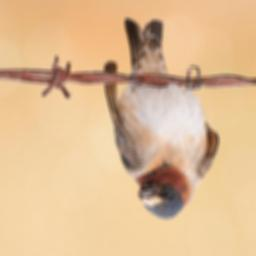Swallow: (103, 18, 220, 221)
